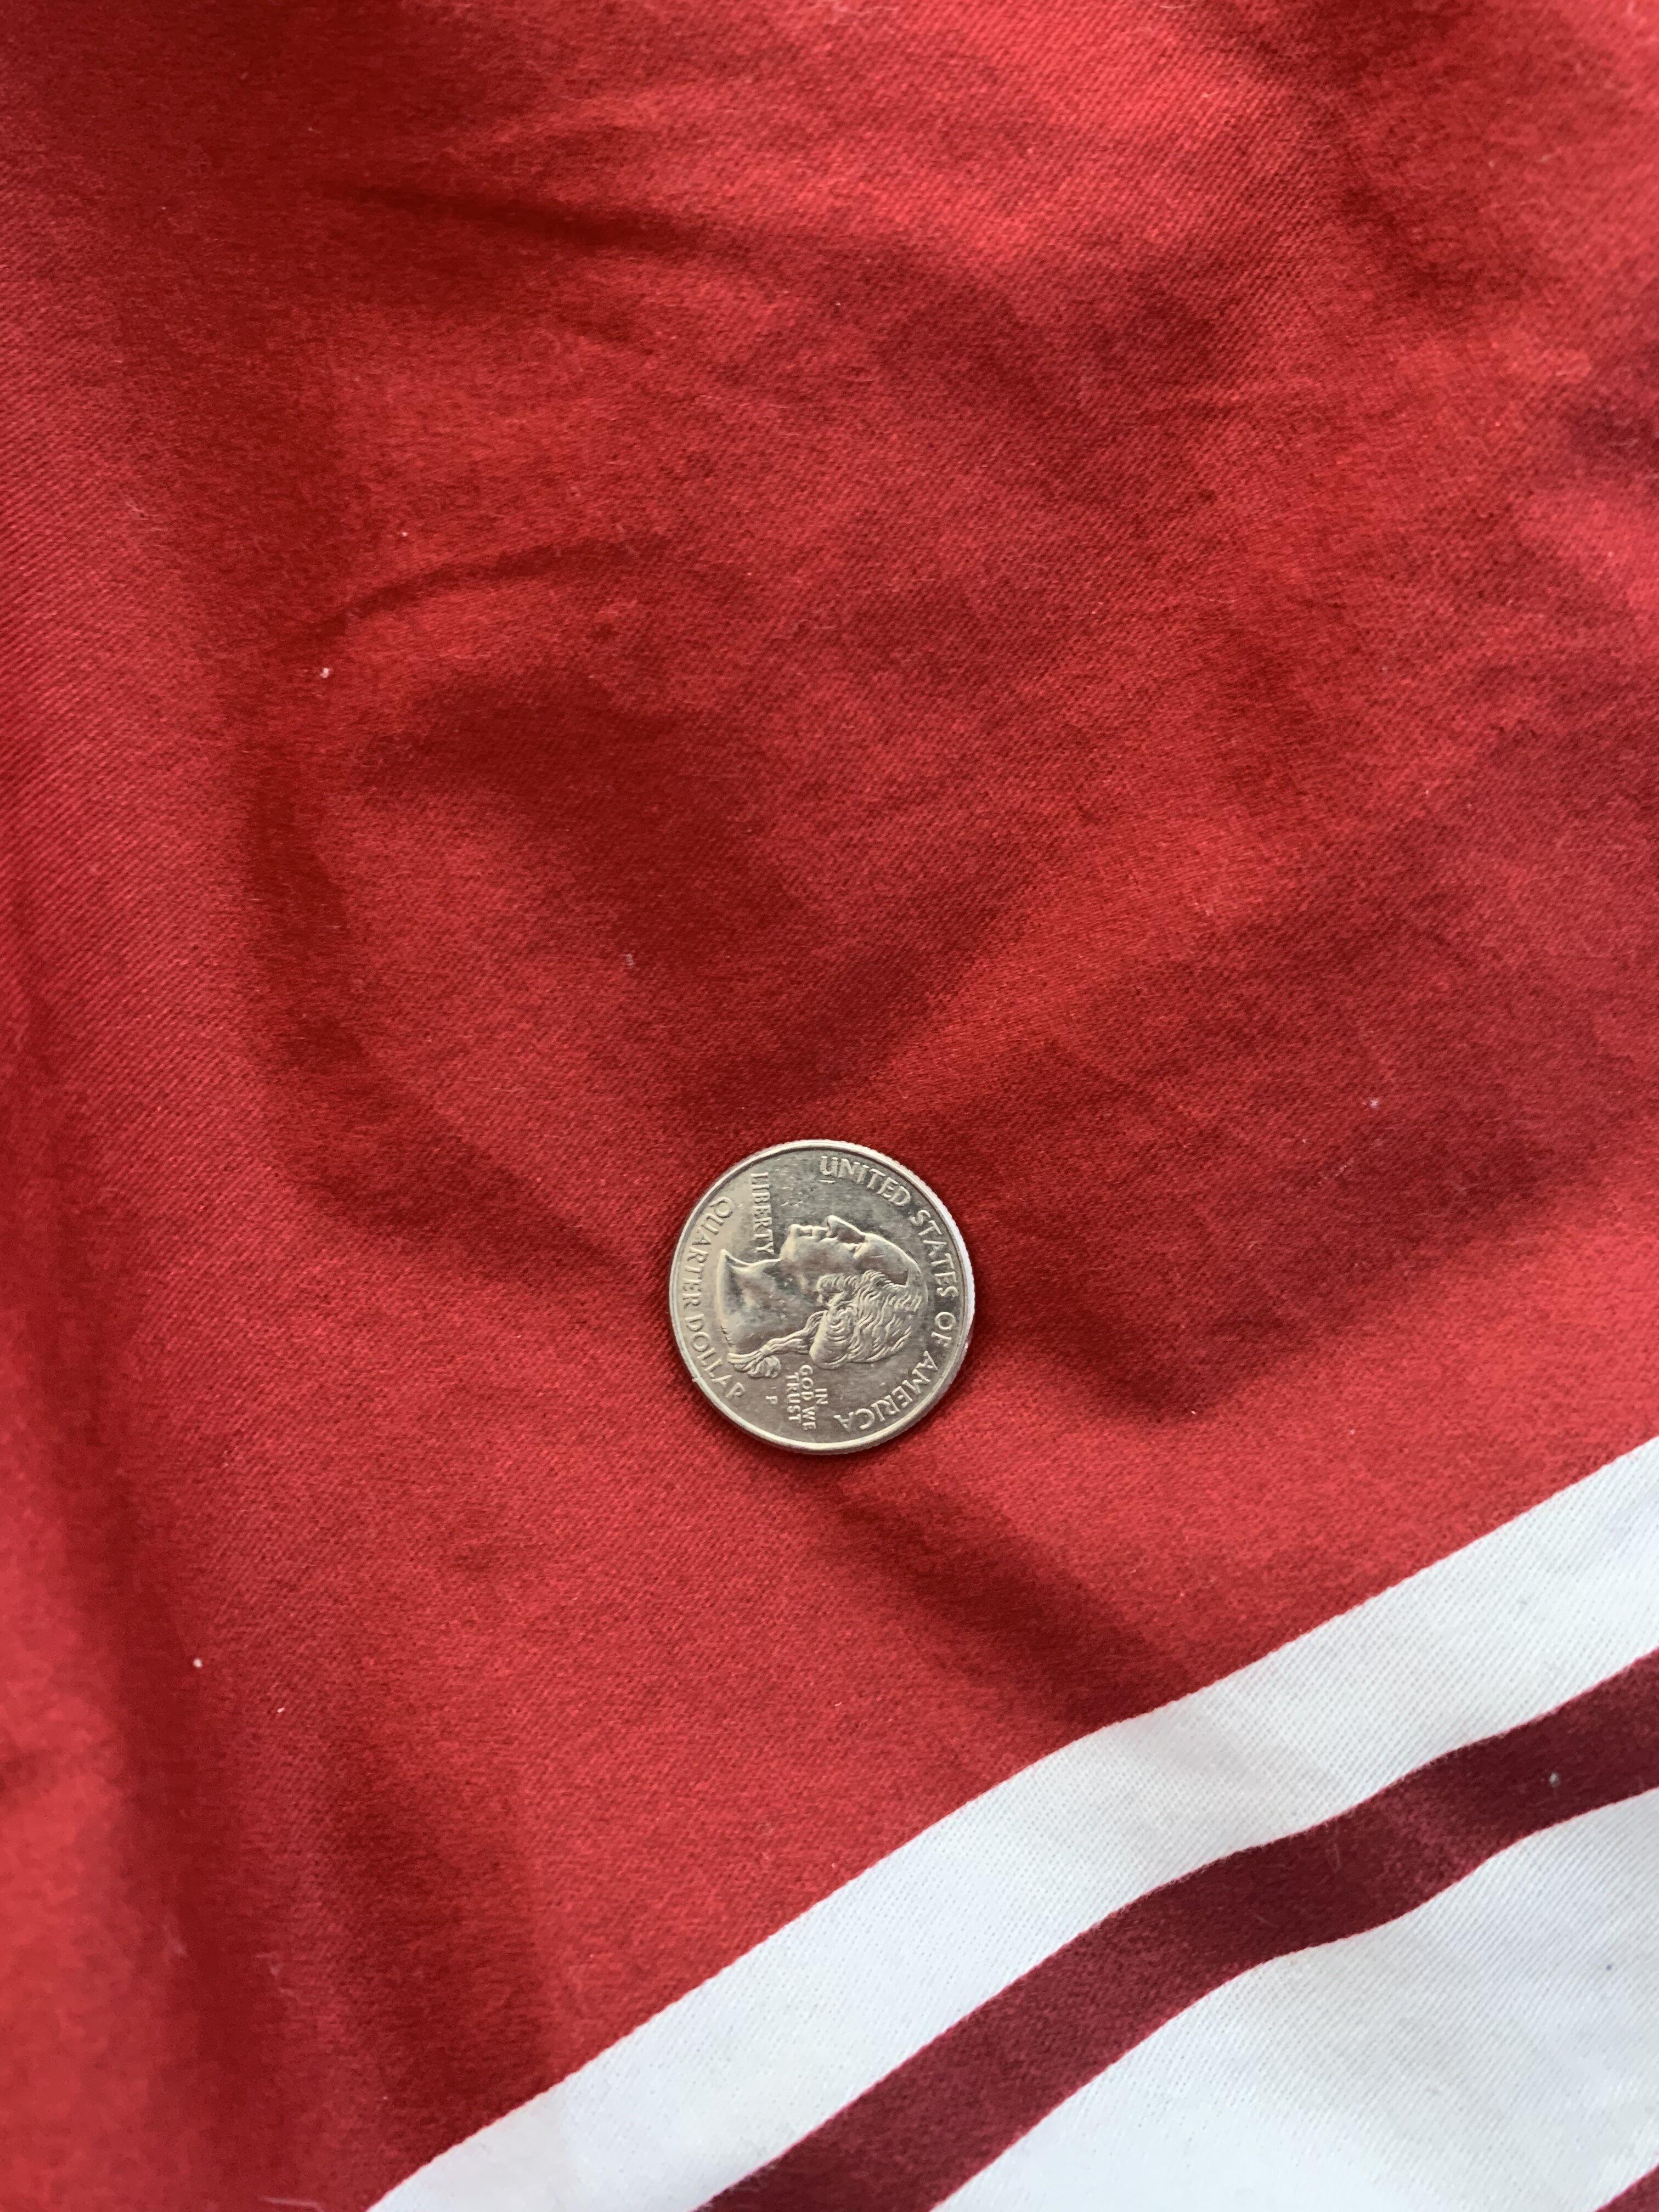Quarter: (638, 1116, 1021, 1484)
